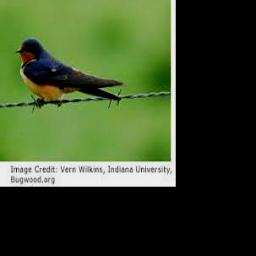Swallow: (15, 38, 123, 102)
